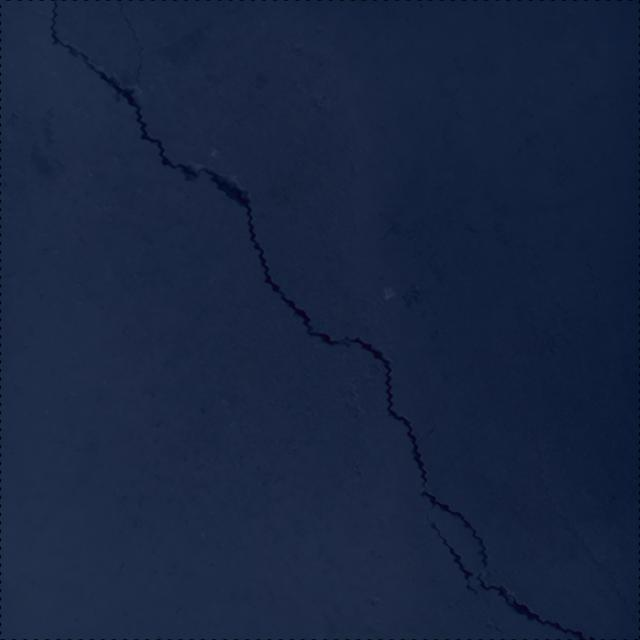crack: (50, 0, 596, 640), (541, 476, 640, 628), (117, 0, 142, 83)
